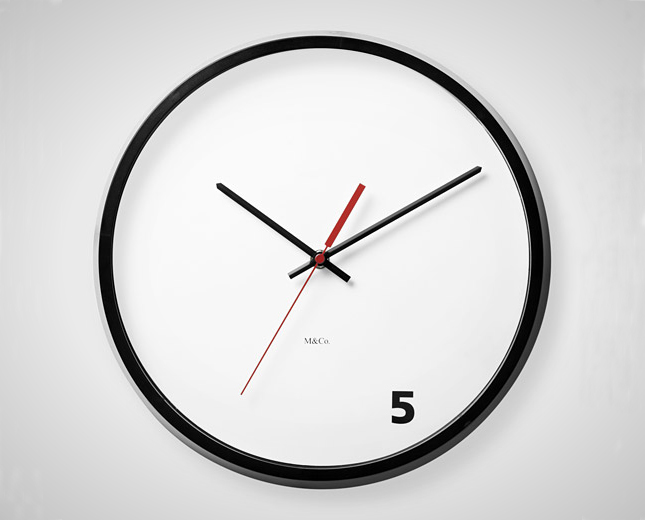clock: (112, 48, 531, 469)
